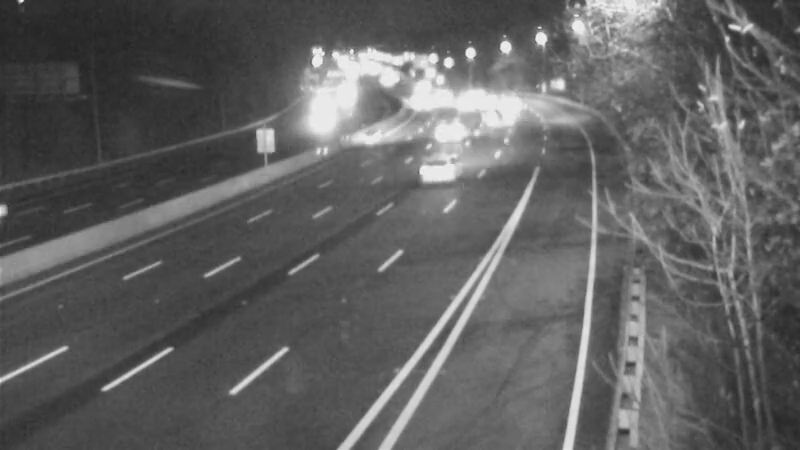vehicle: (398, 128, 478, 208), (436, 80, 486, 130), (483, 77, 533, 127), (473, 91, 523, 141), (425, 107, 475, 157), (345, 109, 395, 159)
